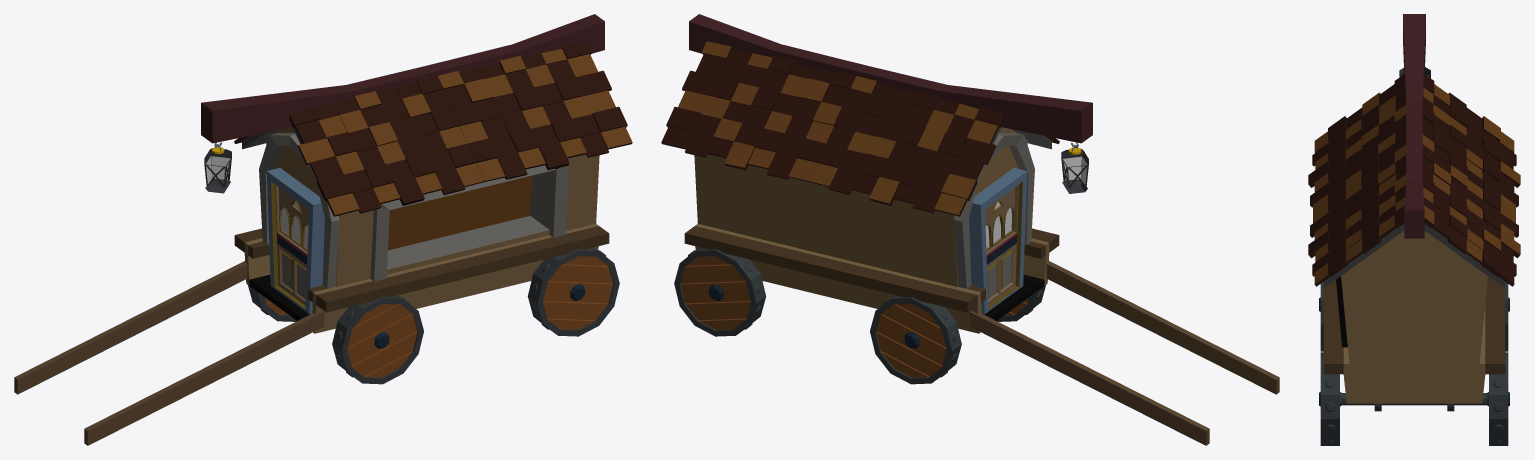
The model's file is SM_Cart_01_B.gltf.
The picture shows the model from 3 angles, left to right: view 1: azimuth 30°, elevation 25°; view 2: azimuth 150°, elevation 25°; view 3: azimuth 270°, elevation 25°; orthographic projection.
Parts seen in each view (by area): view 1: SM_Cart_01_B; view 2: SM_Cart_01_B; view 3: SM_Cart_01_B.
Part boxes in pixels (box(x1,y1,x2,y2)): SM_Cart_01_B: box(14, 14, 632, 445); SM_Cart_01_B: box(661, 14, 1279, 445); SM_Cart_01_B: box(1308, 14, 1520, 445).
Size of the model in its own units: 8.45 by 4.03 by 2.86.
